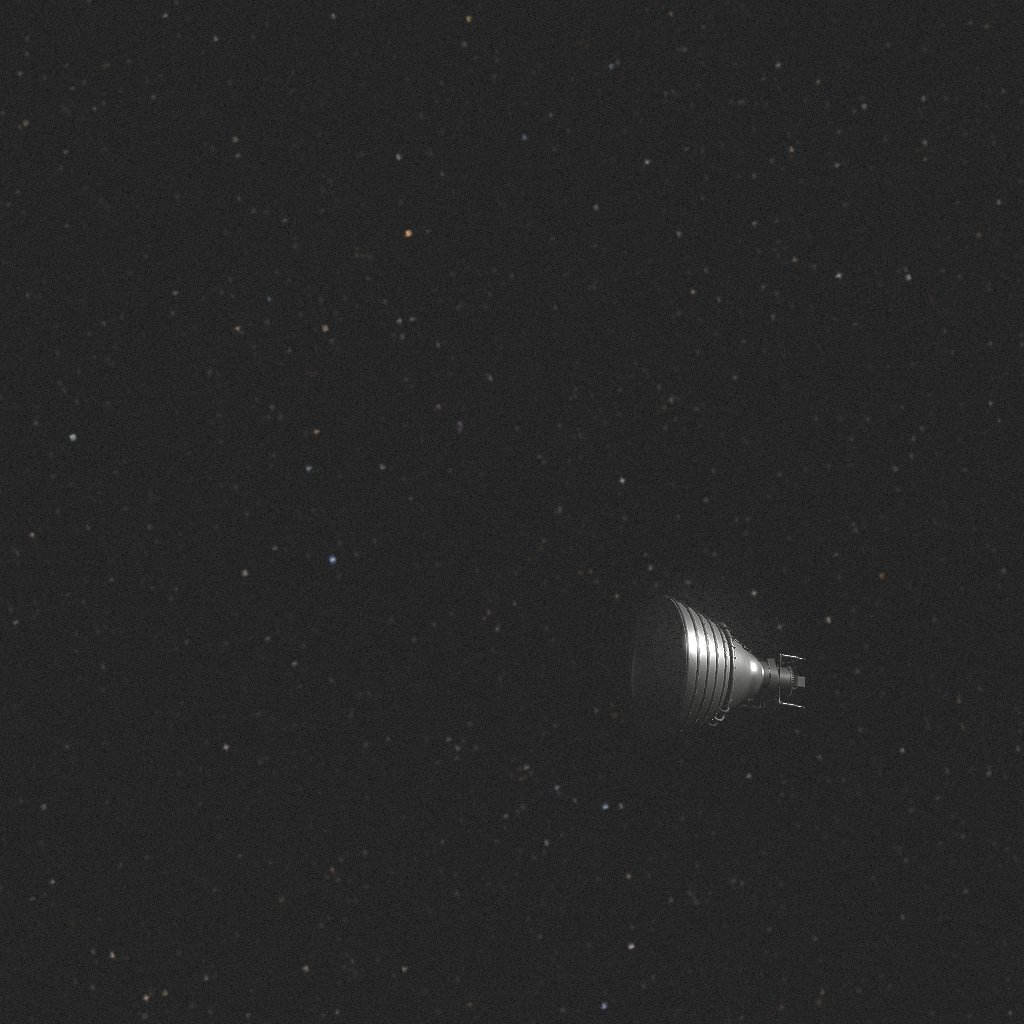debris: (628, 595, 805, 743)
